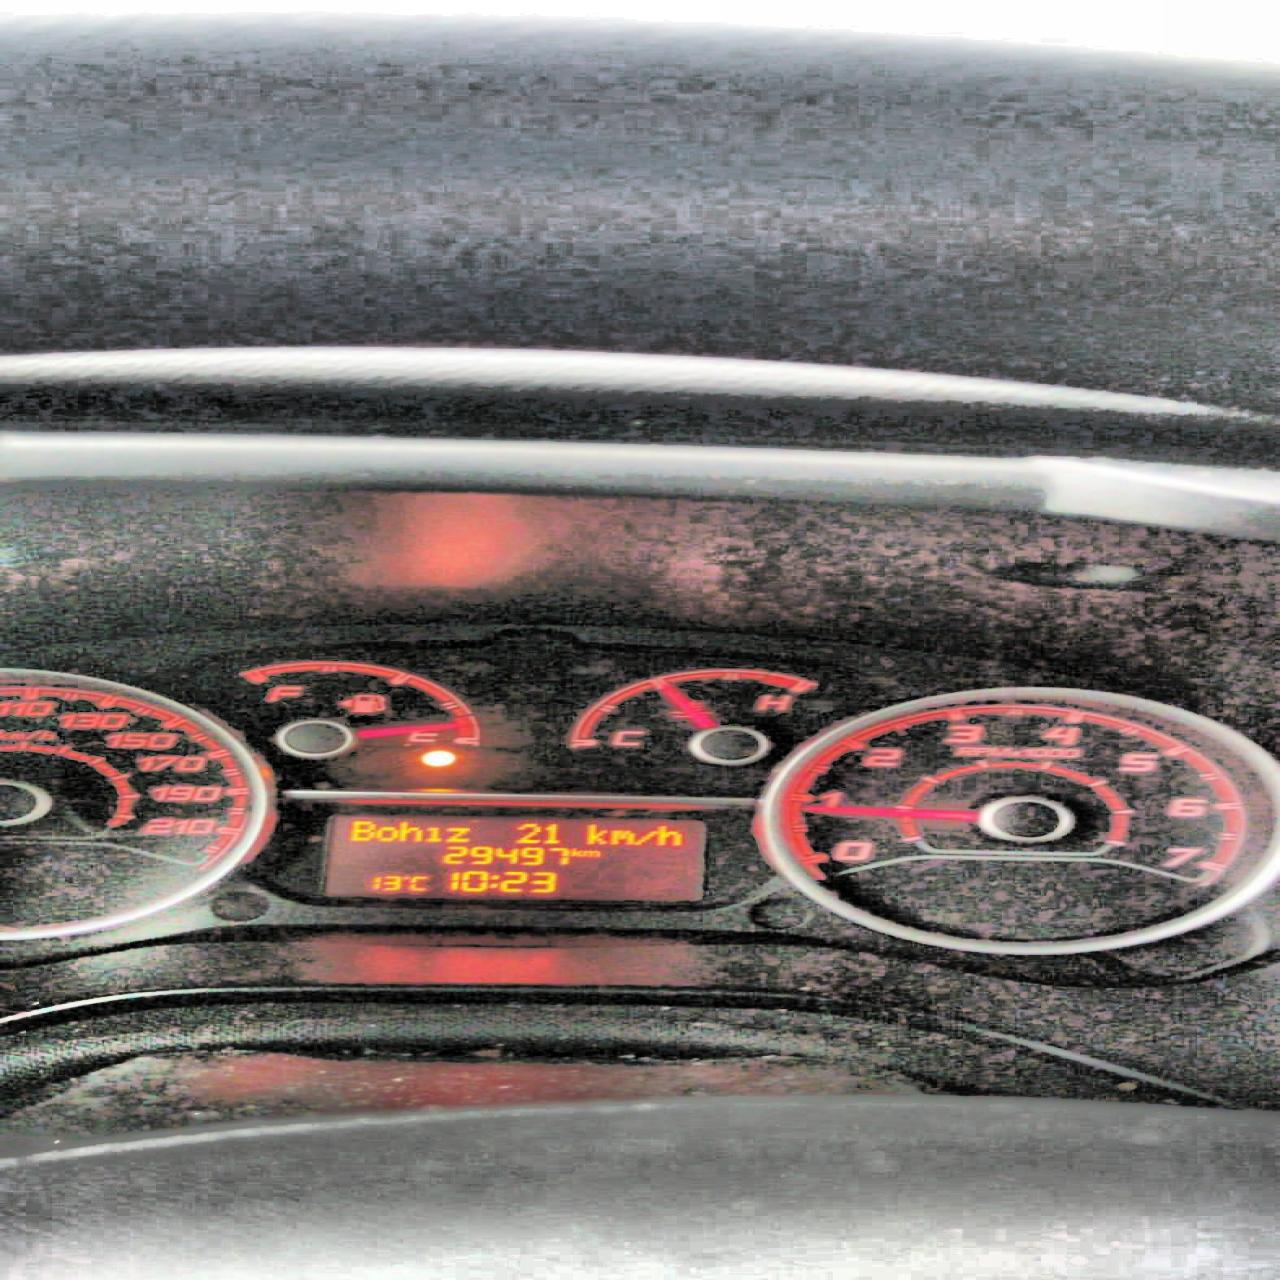0: (462, 869, 485, 892)
1: (543, 822, 563, 843), (448, 870, 461, 891), (368, 874, 381, 891)
2: (499, 870, 529, 892), (515, 822, 540, 844), (441, 845, 467, 865)
3: (529, 870, 557, 893), (382, 873, 399, 891)
4: (495, 845, 517, 864)
7: (549, 846, 568, 865)
9: (467, 844, 493, 865), (518, 845, 542, 865)
X: (347, 819, 374, 842), (443, 825, 477, 843), (399, 819, 423, 843), (655, 824, 681, 846), (583, 822, 607, 844), (608, 826, 633, 846), (634, 829, 658, 846), (374, 825, 397, 840), (408, 874, 428, 892), (424, 825, 443, 843), (488, 872, 499, 888), (584, 849, 602, 858), (570, 846, 584, 857)
odometer: (326, 813, 708, 903)
